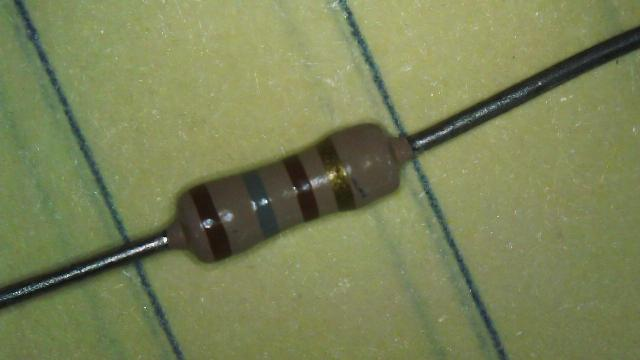brown: (189, 184, 232, 261), (282, 155, 318, 222)
gold: (316, 138, 356, 212)
grey: (242, 170, 280, 237)
resistor: (138, 90, 443, 303)
